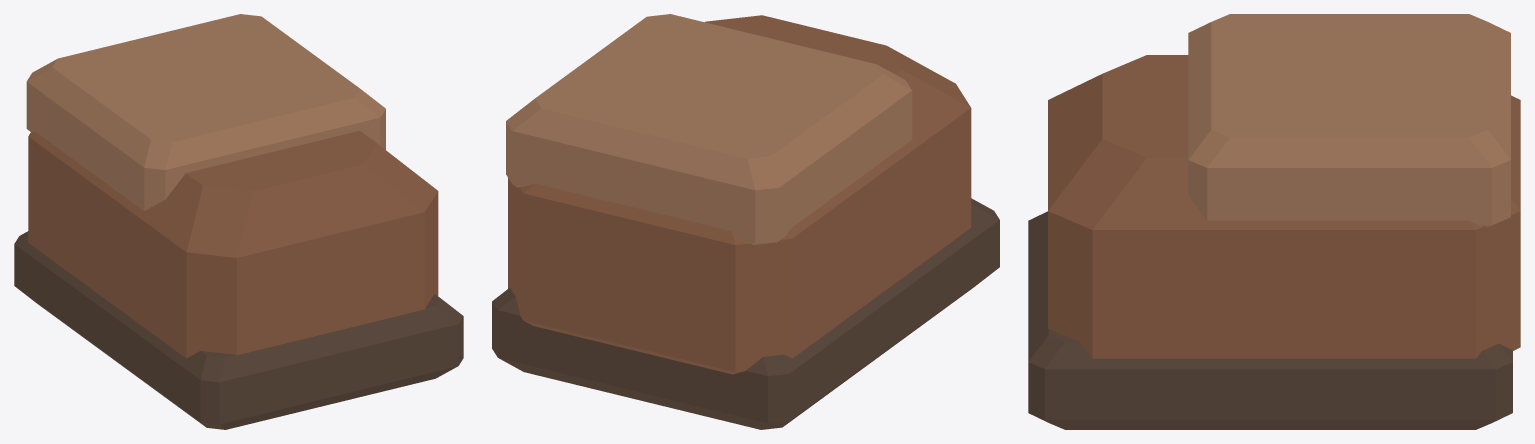
The model's file is boot.glb.
The picture shows the model from 3 angles, left to right: view 1: azimuth 30°, elevation 25°; view 2: azimuth 150°, elevation 25°; view 3: azimuth 270°, elevation 25°; orthographic projection. The views are drawn at different scales.
Parts seen in each view (by area): view 1: Gärtnerfigur · Stiefel; view 2: Gärtnerfigur · Stiefel; view 3: Gärtnerfigur · Stiefel.
Boxes of the visible parts, box(x1,y1,x2,y2) form: Gärtnerfigur · Stiefel: box(14, 14, 463, 429); Gärtnerfigur · Stiefel: box(492, 14, 999, 429); Gärtnerfigur · Stiefel: box(1028, 14, 1520, 429).
Bounding box in the file's own units: 0.186 × 0.159 × 0.249.
